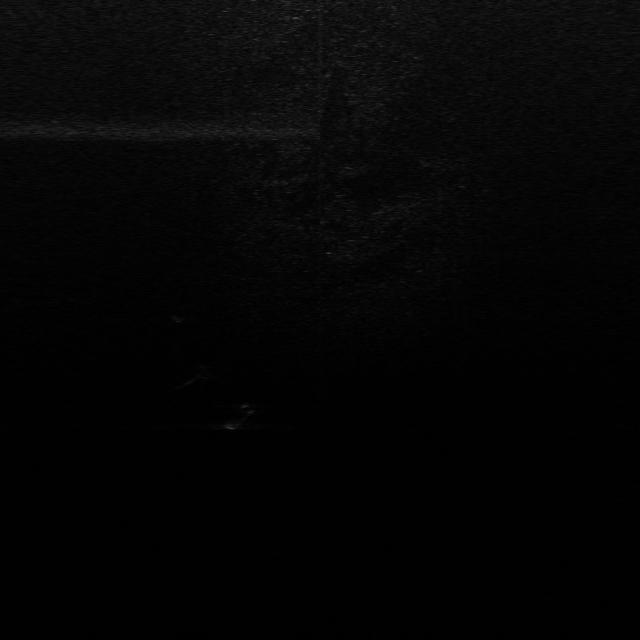ball: (193, 364, 221, 382)
circle cage: (167, 306, 191, 324)
tyre: (223, 404, 256, 430)
